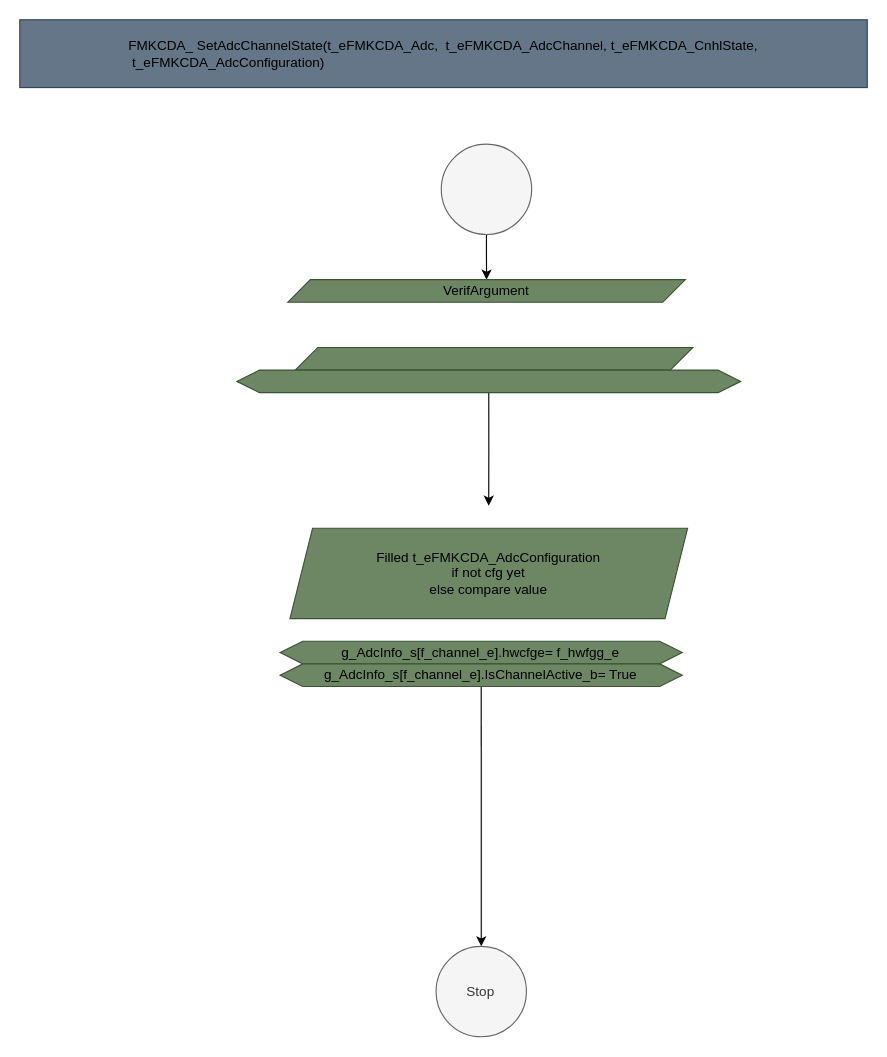
Image size: 887x1057. Some labels were removed from this diagram. The shapes that lost their labels are listed below. From the top down, each one's centre as x and y in pixels, then its label:
At point (486, 188): "Start".
At point (493, 358): "Filled reference for sort value later on".
At point (488, 381): "g_buffChnlRef_ua8[channe_e] = g_adcInfo_s.bspAdc.Init.NbrOfConversion".
